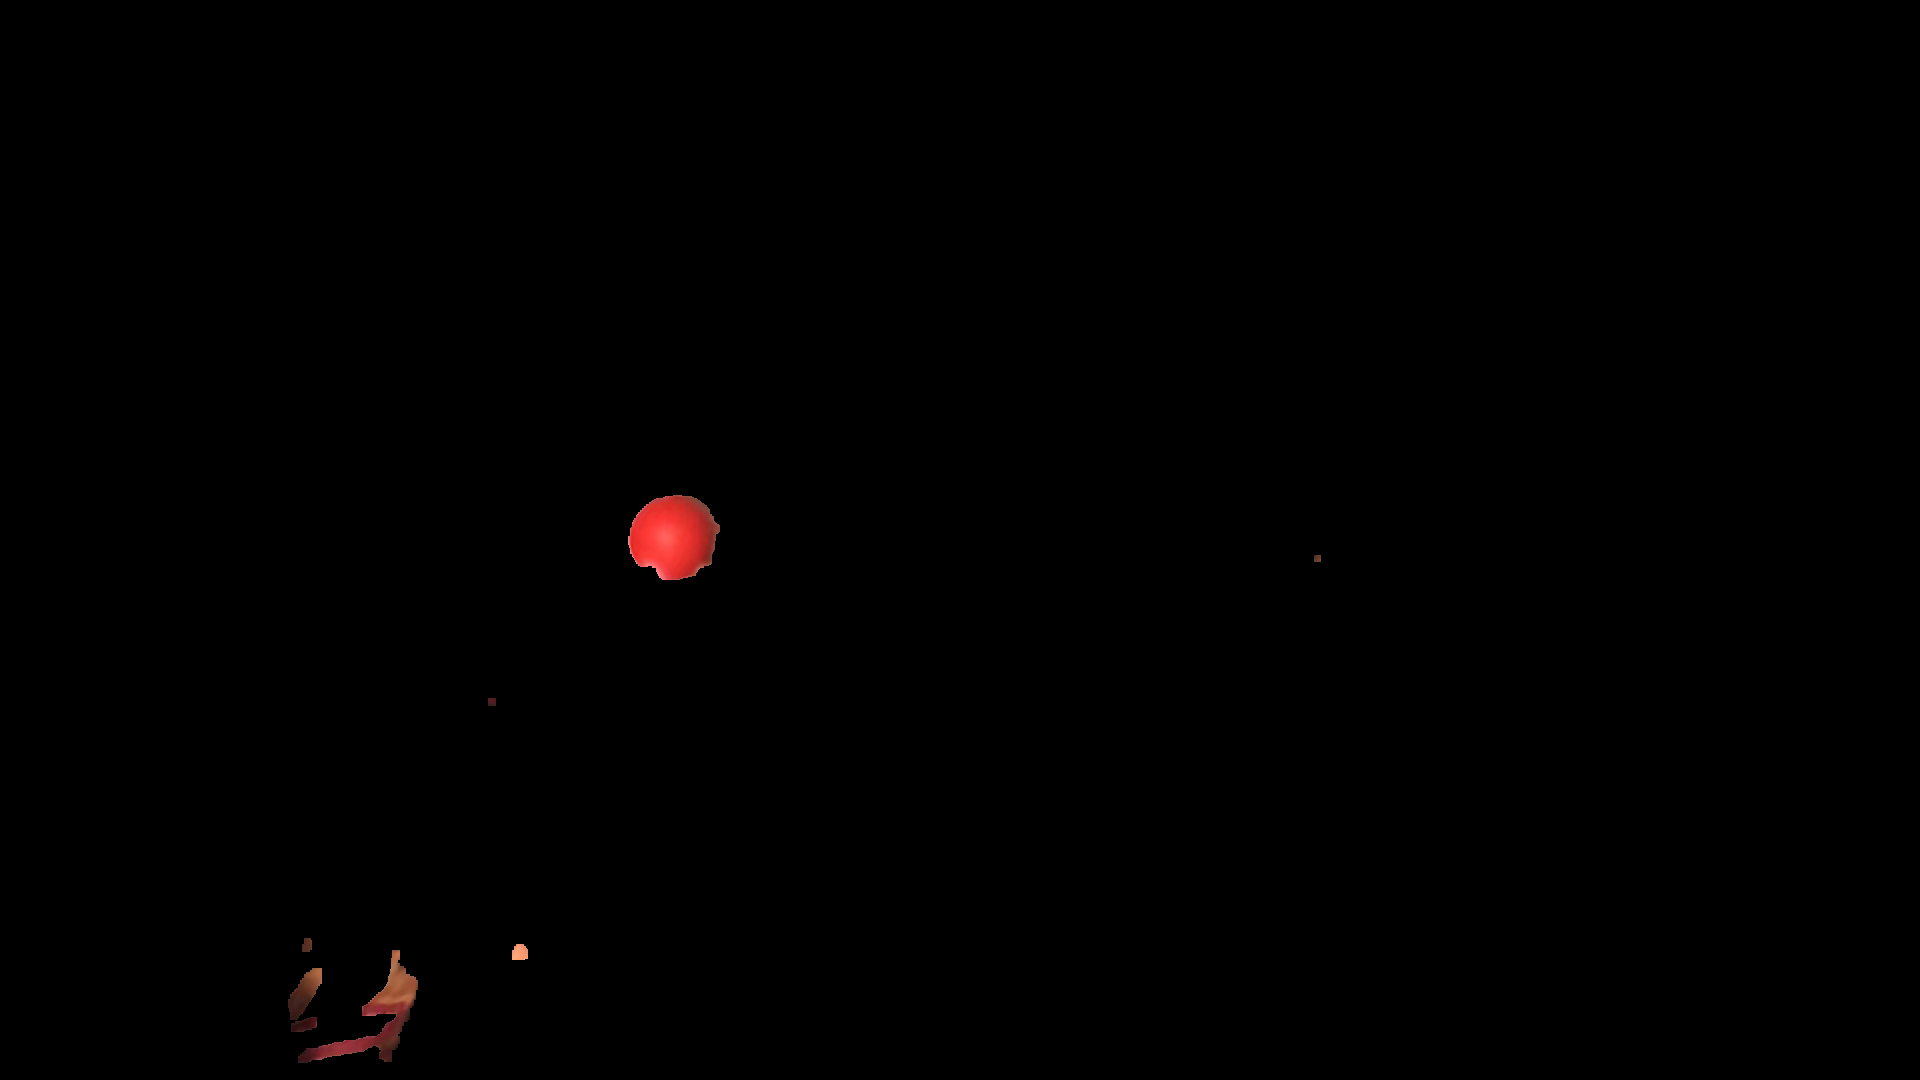Ball: (629, 496, 717, 582)
